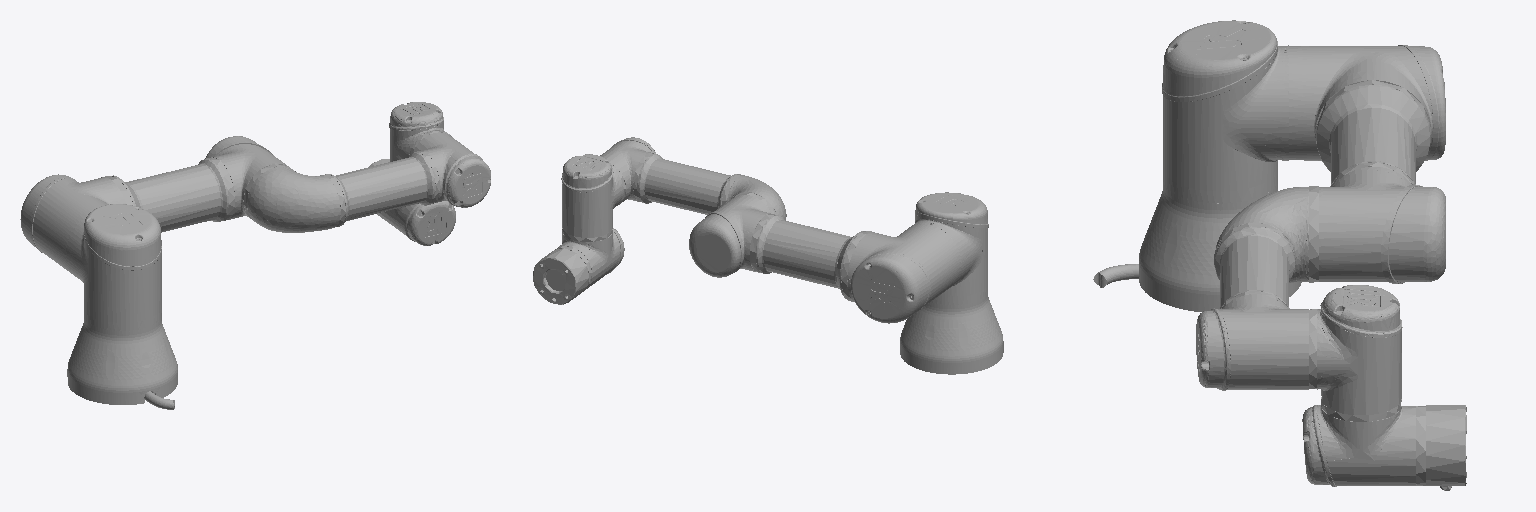
URDF robot description (ur3):
<?xml version="1.0" ?>
<!-- =================================================================================== -->
<!-- |    This document was autogenerated by xacro from C:\Users\tola\Anaconda3\envs\urdf_analyzer\Lib\site-packages\rtbdata\xacro\ur_description\urdf\ur3_joint_limited_robot.urdf.xacro | -->
<!-- |    EDITING THIS FILE BY HAND IS NOT RECOMMENDED                                 | -->
<!-- =================================================================================== -->
<robot name="ur3">
  <gazebo>
    <plugin filename="libgazebo_ros_control.so" name="ros_control">
      <!--robotNamespace>/</robotNamespace-->
      <!--robotSimType>gazebo_ros_control/DefaultRobotHWSim</robotSimType-->
    </plugin>
    <!--
    <plugin name="gazebo_ros_power_monitor_controller" filename="libgazebo_ros_power_monitor.so">
      <alwaysOn>true</alwaysOn>
      <updateRate>1.0</updateRate>
      <timeout>5</timeout>
      <powerStateTopic>power_state</powerStateTopic>
      <powerStateRate>10.0</powerStateRate>
      <fullChargeCapacity>87.78</fullChargeCapacity>     
      <dischargeRate>-474</dischargeRate>
      <chargeRate>525</chargeRate>
      <dischargeVoltage>15.52</dischargeVoltage>
      <chargeVoltage>16.41</chargeVoltage>
    </plugin>
-->
  </gazebo>
  <!--
  Author: Felix Messmer
-->
  <!-- measured from model -->
  <link name="base_link">
    <visual>
      <geometry>
        <mesh filename="meshes/ur3/visual/base.stl"/>
      </geometry>
      <material name="LightGrey">
        <color rgba="0.7 0.7 0.7 1.0"/>
      </material>
    </visual>
    <collision>
      <geometry>
        <mesh filename="meshes/ur3/collision/base.stl"/>
      </geometry>
    </collision>
    <inertial>
      <mass value="2.0"/>
      <origin rpy="0 0 0" xyz="0.0 0.0 0.0"/>
      <inertia ixx="0.0030531654454" ixy="0.0" ixz="0.0" iyy="0.0030531654454" iyz="0.0" izz="0.005625"/>
    </inertial>
  </link>
  <joint name="shoulder_pan_joint" type="revolute">
    <parent link="base_link"/>
    <child link="shoulder_link"/>
    <origin rpy="0.0 0.0 0.0" xyz="0.0 0.0 0.1519"/>
    <axis xyz="0 0 1"/>
    <limit effort="330.0" lower="-3.141592653589793" upper="3.141592653589793" velocity="2.16"/>
    <dynamics damping="0.0" friction="0.0"/>
  </joint>
  <link name="shoulder_link">
    <visual>
      <geometry>
        <mesh filename="meshes/ur3/visual/shoulder.stl"/>
      </geometry>
      <material name="LightGrey">
        <color rgba="0.7 0.7 0.7 1.0"/>
      </material>
    </visual>
    <collision>
      <geometry>
        <mesh filename="meshes/ur3/collision/shoulder.stl"/>
      </geometry>
    </collision>
    <inertial>
      <mass value="2.0"/>
      <origin rpy="0 0 0" xyz="0.0 0.0 0.0"/>
      <inertia ixx="0.008093163429399999" ixy="0.0" ixz="0.0" iyy="0.008093163429399999" iyz="0.0" izz="0.005625"/>
    </inertial>
  </link>
  <joint name="shoulder_lift_joint" type="revolute">
    <parent link="shoulder_link"/>
    <child link="upper_arm_link"/>
    <origin rpy="0.0 1.5707963267948966 0.0" xyz="0.0 0.1198 0.0"/>
    <axis xyz="0 1 0"/>
    <limit effort="330.0" lower="-3.141592653589793" upper="3.141592653589793" velocity="2.16"/>
    <dynamics damping="0.0" friction="0.0"/>
  </joint>
  <link name="upper_arm_link">
    <visual>
      <geometry>
        <mesh filename="meshes/ur3/visual/upperarm.stl"/>
      </geometry>
      <material name="LightGrey">
        <color rgba="0.7 0.7 0.7 1.0"/>
      </material>
    </visual>
    <collision>
      <geometry>
        <mesh filename="meshes/ur3/collision/upperarm.stl"/>
      </geometry>
    </collision>
    <inertial>
      <mass value="3.42"/>
      <origin rpy="0 0 0" xyz="0.0 0.0 0.121825"/>
      <inertia ixx="0.021728483221103233" ixy="0.0" ixz="0.0" iyy="0.021728483221103233" iyz="0.0" izz="0.00961875"/>
    </inertial>
  </link>
  <joint name="elbow_joint" type="revolute">
    <parent link="upper_arm_link"/>
    <child link="forearm_link"/>
    <origin rpy="0.0 0.0 0.0" xyz="0.0 -0.0925 0.24365"/>
    <axis xyz="0 1 0"/>
    <limit effort="150.0" lower="-3.141592653589793" upper="3.141592653589793" velocity="3.15"/>
    <dynamics damping="0.0" friction="0.0"/>
  </joint>
  <link name="forearm_link">
    <visual>
      <geometry>
        <mesh filename="meshes/ur3/visual/forearm.stl"/>
      </geometry>
      <material name="LightGrey">
        <color rgba="0.7 0.7 0.7 1.0"/>
      </material>
    </visual>
    <collision>
      <geometry>
        <mesh filename="meshes/ur3/collision/forearm.stl"/>
      </geometry>
    </collision>
    <inertial>
      <mass value="1.26"/>
      <origin rpy="0 0 0" xyz="0.0 0.0 0.106625"/>
      <inertia ixx="0.006546806443776375" ixy="0.0" ixz="0.0" iyy="0.006546806443776375" iyz="0.0" izz="0.00354375"/>
    </inertial>
  </link>
  <joint name="wrist_1_joint" type="revolute">
    <parent link="forearm_link"/>
    <child link="wrist_1_link"/>
    <origin rpy="0.0 1.5707963267948966 0.0" xyz="0.0 0.0 0.21325"/>
    <axis xyz="0 1 0"/>
    <limit effort="54.0" lower="-3.141592653589793" upper="3.141592653589793" velocity="3.2"/>
    <dynamics damping="0.0" friction="0.0"/>
  </joint>
  <link name="wrist_1_link">
    <visual>
      <geometry>
        <mesh filename="meshes/ur3/visual/wrist1.stl"/>
      </geometry>
      <material name="LightGrey">
        <color rgba="0.7 0.7 0.7 1.0"/>
      </material>
    </visual>
    <collision>
      <geometry>
        <mesh filename="meshes/ur3/collision/wrist1.stl"/>
      </geometry>
    </collision>
    <inertial>
      <mass value="0.8"/>
      <origin rpy="0 0 0" xyz="0.0 0.08505 0.0"/>
      <inertia ixx="0.002084999166" ixy="0.0" ixz="0.0" iyy="0.002084999166" iyz="0.0" izz="0.00225"/>
    </inertial>
  </link>
  <joint name="wrist_2_joint" type="revolute">
    <parent link="wrist_1_link"/>
    <child link="wrist_2_link"/>
    <origin rpy="0.0 0.0 0.0" xyz="0.0 0.08505 0.0"/>
    <axis xyz="0 0 1"/>
    <limit effort="54.0" lower="-3.141592653589793" upper="3.141592653589793" velocity="3.2"/>
    <dynamics damping="0.0" friction="0.0"/>
  </joint>
  <link name="wrist_2_link">
    <visual>
      <geometry>
        <mesh filename="meshes/ur3/visual/wrist2.stl"/>
      </geometry>
      <material name="LightGrey">
        <color rgba="0.7 0.7 0.7 1.0"/>
      </material>
    </visual>
    <collision>
      <geometry>
        <mesh filename="meshes/ur3/collision/wrist2.stl"/>
      </geometry>
    </collision>
    <inertial>
      <mass value="0.8"/>
      <origin rpy="0 0 0" xyz="0.0 0.0 0.08535"/>
      <inertia ixx="0.002084999166" ixy="0.0" ixz="0.0" iyy="0.002084999166" iyz="0.0" izz="0.00225"/>
    </inertial>
  </link>
  <joint name="wrist_3_joint" type="revolute">
    <parent link="wrist_2_link"/>
    <child link="wrist_3_link"/>
    <origin rpy="0.0 0.0 0.0" xyz="0.0 0.0 0.08535"/>
    <axis xyz="0 1 0"/>
    <limit effort="54.0" lower="-3.141592653589793" upper="3.141592653589793" velocity="3.2"/>
    <dynamics damping="0.0" friction="0.0"/>
  </joint>
  <link name="wrist_3_link">
    <visual>
      <geometry>
        <mesh filename="meshes/ur3/visual/wrist3.stl"/>
      </geometry>
      <material name="LightGrey">
        <color rgba="0.7 0.7 0.7 1.0"/>
      </material>
    </visual>
    <collision>
      <geometry>
        <mesh filename="meshes/ur3/collision/wrist3.stl"/>
      </geometry>
    </collision>
    <inertial>
      <mass value="0.35"/>
      <origin rpy="1.5707963267948966 0 0" xyz="0.0 0.0619 0.0"/>
      <inertia ixx="0.00013626661215999998" ixy="0.0" ixz="0.0" iyy="0.00013626661215999998" iyz="0.0" izz="0.0001792"/>
    </inertial>
  </link>
  <joint name="ee_fixed_joint" type="fixed">
    <parent link="wrist_3_link"/>
    <child link="ee_link"/>
    <origin rpy="0.0 0.0 1.5707963267948966" xyz="0.0 0.0819 0.0"/>
  </joint>
  <link name="ee_link">
    <collision>
      <geometry>
        <box size="0.01 0.01 0.01"/>
      </geometry>
      <origin rpy="0 0 0" xyz="-0.01 0 0"/>
    </collision>
  </link>
  <transmission name="shoulder_pan_trans">
    <type>transmission_interface/SimpleTransmission</type>
    <joint name="shoulder_pan_joint">
      <hardwareInterface>hardware_interface/PositionJointInterface</hardwareInterface>
    </joint>
    <actuator name="shoulder_pan_motor">
      <mechanicalReduction>1</mechanicalReduction>
    </actuator>
  </transmission>
  <transmission name="shoulder_lift_trans">
    <type>transmission_interface/SimpleTransmission</type>
    <joint name="shoulder_lift_joint">
      <hardwareInterface>hardware_interface/PositionJointInterface</hardwareInterface>
    </joint>
    <actuator name="shoulder_lift_motor">
      <mechanicalReduction>1</mechanicalReduction>
    </actuator>
  </transmission>
  <transmission name="elbow_trans">
    <type>transmission_interface/SimpleTransmission</type>
    <joint name="elbow_joint">
      <hardwareInterface>hardware_interface/PositionJointInterface</hardwareInterface>
    </joint>
    <actuator name="elbow_motor">
      <mechanicalReduction>1</mechanicalReduction>
    </actuator>
  </transmission>
  <transmission name="wrist_1_trans">
    <type>transmission_interface/SimpleTransmission</type>
    <joint name="wrist_1_joint">
      <hardwareInterface>hardware_interface/PositionJointInterface</hardwareInterface>
    </joint>
    <actuator name="wrist_1_motor">
      <mechanicalReduction>1</mechanicalReduction>
    </actuator>
  </transmission>
  <transmission name="wrist_2_trans">
    <type>transmission_interface/SimpleTransmission</type>
    <joint name="wrist_2_joint">
      <hardwareInterface>hardware_interface/PositionJointInterface</hardwareInterface>
    </joint>
    <actuator name="wrist_2_motor">
      <mechanicalReduction>1</mechanicalReduction>
    </actuator>
  </transmission>
  <transmission name="wrist_3_trans">
    <type>transmission_interface/SimpleTransmission</type>
    <joint name="wrist_3_joint">
      <hardwareInterface>hardware_interface/PositionJointInterface</hardwareInterface>
    </joint>
    <actuator name="wrist_3_motor">
      <mechanicalReduction>1</mechanicalReduction>
    </actuator>
  </transmission>
  <gazebo reference="shoulder_link">
    <selfCollide>true</selfCollide>
  </gazebo>
  <gazebo reference="upper_arm_link">
    <selfCollide>true</selfCollide>
  </gazebo>
  <gazebo reference="forearm_link">
    <selfCollide>true</selfCollide>
  </gazebo>
  <gazebo reference="wrist_1_link">
    <selfCollide>true</selfCollide>
  </gazebo>
  <gazebo reference="wrist_3_link">
    <selfCollide>true</selfCollide>
  </gazebo>
  <gazebo reference="wrist_2_link">
    <selfCollide>true</selfCollide>
  </gazebo>
  <gazebo reference="ee_link">
    <selfCollide>true</selfCollide>
  </gazebo>
  <!-- ROS base_link to UR 'Base' Coordinates transform -->
  <link name="base"/>
  <joint name="base_link-base_fixed_joint" type="fixed">
    <!-- NOTE: this rotation is only needed as long as base_link itself is
                 not corrected wrt the real robot (ie: rotated over 180
                 degrees)
      -->
    <origin rpy="0 0 -3.141592653589793" xyz="0 0 0"/>
    <parent link="base_link"/>
    <child link="base"/>
  </joint>
  <!-- Frame coincident with all-zeros TCP on UR controller -->
  <link name="tool0"/>
  <joint name="wrist_3_link-tool0_fixed_joint" type="fixed">
    <origin rpy="-1.5707963267948966 0 0" xyz="0 0.0819 0"/>
    <parent link="wrist_3_link"/>
    <child link="tool0"/>
  </joint>
  <link name="world"/>
  <joint name="world_joint" type="fixed">
    <parent link="world"/>
    <child link="base_link"/>
    <origin rpy="0.0 0.0 0.0" xyz="0.0 0.0 0.0"/>
  </joint>
</robot>

--- What the picture shows (computed from the rendered views, not written in the file) ---
Views: 3 orthographic renders of the robot side by side, from view 1: azimuth 30°, elevation 25°; view 2: azimuth 150°, elevation 25°; view 3: azimuth 270°, elevation 25°.
Robot: ur3 — 11 links, 10 joints (6 revolute, 4 fixed); root link world; default pose: every joint at zero.
Links seen in each view (by area): view 1: forearm_link, upper_arm_link, shoulder_link, base_link, wrist_1_link, wrist_2_link; view 2: upper_arm_link, forearm_link, base_link, shoulder_link, wrist_1_link, wrist_3_link, wrist_2_link; view 3: upper_arm_link, shoulder_link, forearm_link, wrist_1_link, base_link, wrist_2_link, wrist_3_link.
Link boxes in pixels (x1,y1,x2,y2): forearm_link: (247,132,490,232); upper_arm_link: (20,136,289,273); shoulder_link: (66,204,161,330); base_link: (67,316,177,409); wrist_1_link: (389,102,451,161); wrist_2_link: (378,201,455,245); upper_arm_link: (689,192,960,323); forearm_link: (600,137,786,220); base_link: (900,293,1003,374); shoulder_link: (912,192,988,304); wrist_1_link: (561,154,625,237); wrist_3_link: (533,246,591,304); wrist_2_link: (555,228,624,288); upper_arm_link: (1289,45,1445,283); shoulder_link: (1162,20,1288,203); forearm_link: (1196,187,1308,390); wrist_1_link: (1309,285,1402,414); base_link: (1093,182,1301,311); wrist_2_link: (1302,397,1415,486); wrist_3_link: (1416,405,1466,490).
Size in the robot's own frame: 0.5531 by 0.2923 by 0.2097 metres.
Meshes: 7 distinct files referenced, 7 mesh visuals loaded (7 binary STL).
